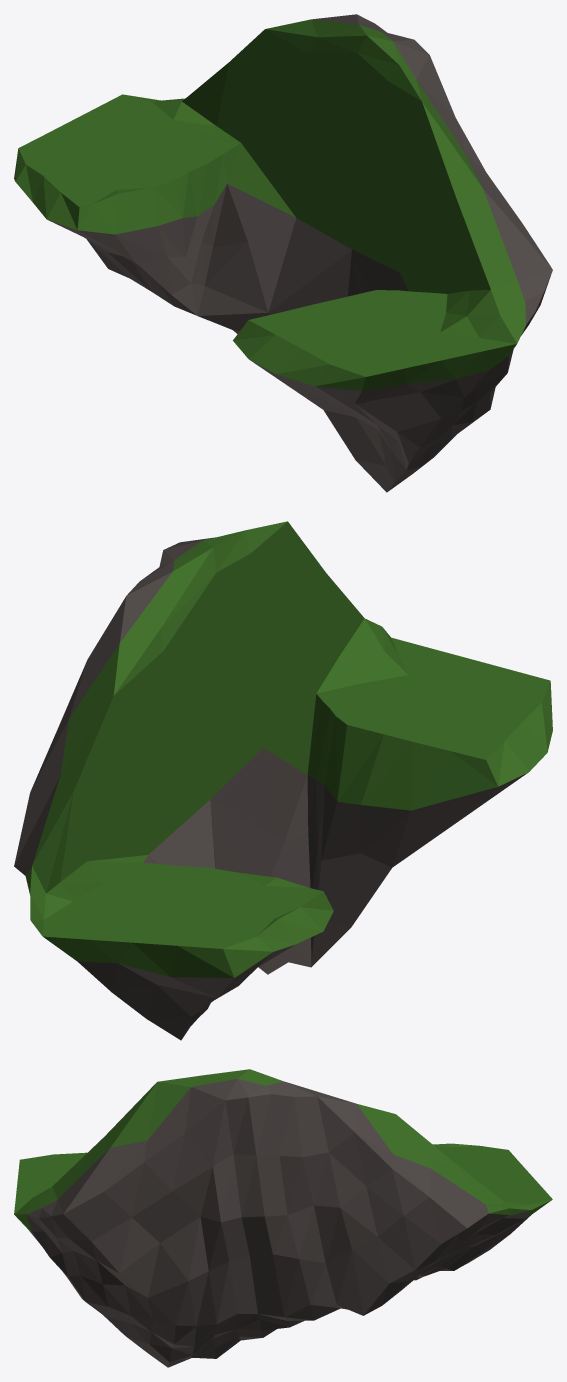
The model's file is forestwallrun.fbx.
3 renders of one model, top to bottom at view 1: azimuth 30°, elevation 25°; view 2: azimuth 150°, elevation 25°; view 3: azimuth 270°, elevation 25°, orthographic. The views are drawn at different scales.
Visible parts, largest first — view 1: Icosphere; view 2: Icosphere; view 3: Icosphere.
Part boxes in pixels (box(x1,y1,x2,y2)): Icosphere: box(14, 14, 552, 492); Icosphere: box(14, 521, 552, 1040); Icosphere: box(14, 1069, 552, 1367).
Size of the model in its own units: 1002 by 1362 by 2138.
